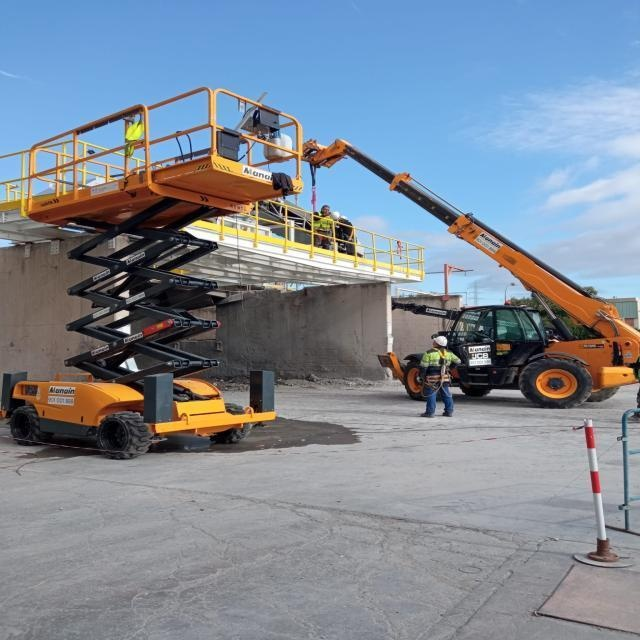Arnes_seguridad: (422, 347, 454, 396)
